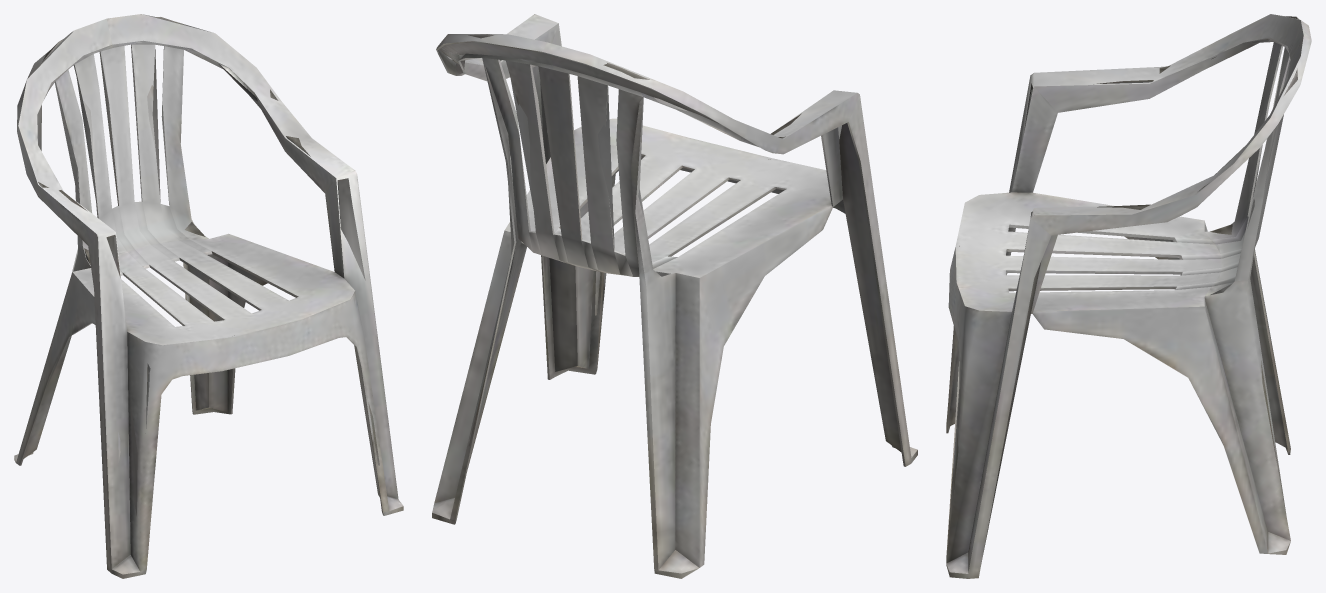
Rendered from chair.glb.
The picture shows the model from 3 angles, left to right: view 1: azimuth 30°, elevation 25°; view 2: azimuth 150°, elevation 25°; view 3: azimuth 270°, elevation 25°; orthographic projection. The views are drawn at different scales.
Visible parts, largest first — view 1: chair; view 2: chair; view 3: chair.
Boxes of the visible parts, <box> form: chair: <box>14,14,403,578</box>; chair: <box>432,14,917,578</box>; chair: <box>946,14,1311,578</box>.
Size of the model in its own units: 0.6419 by 0.8798 by 0.6276.
1 material, 1 textured.
